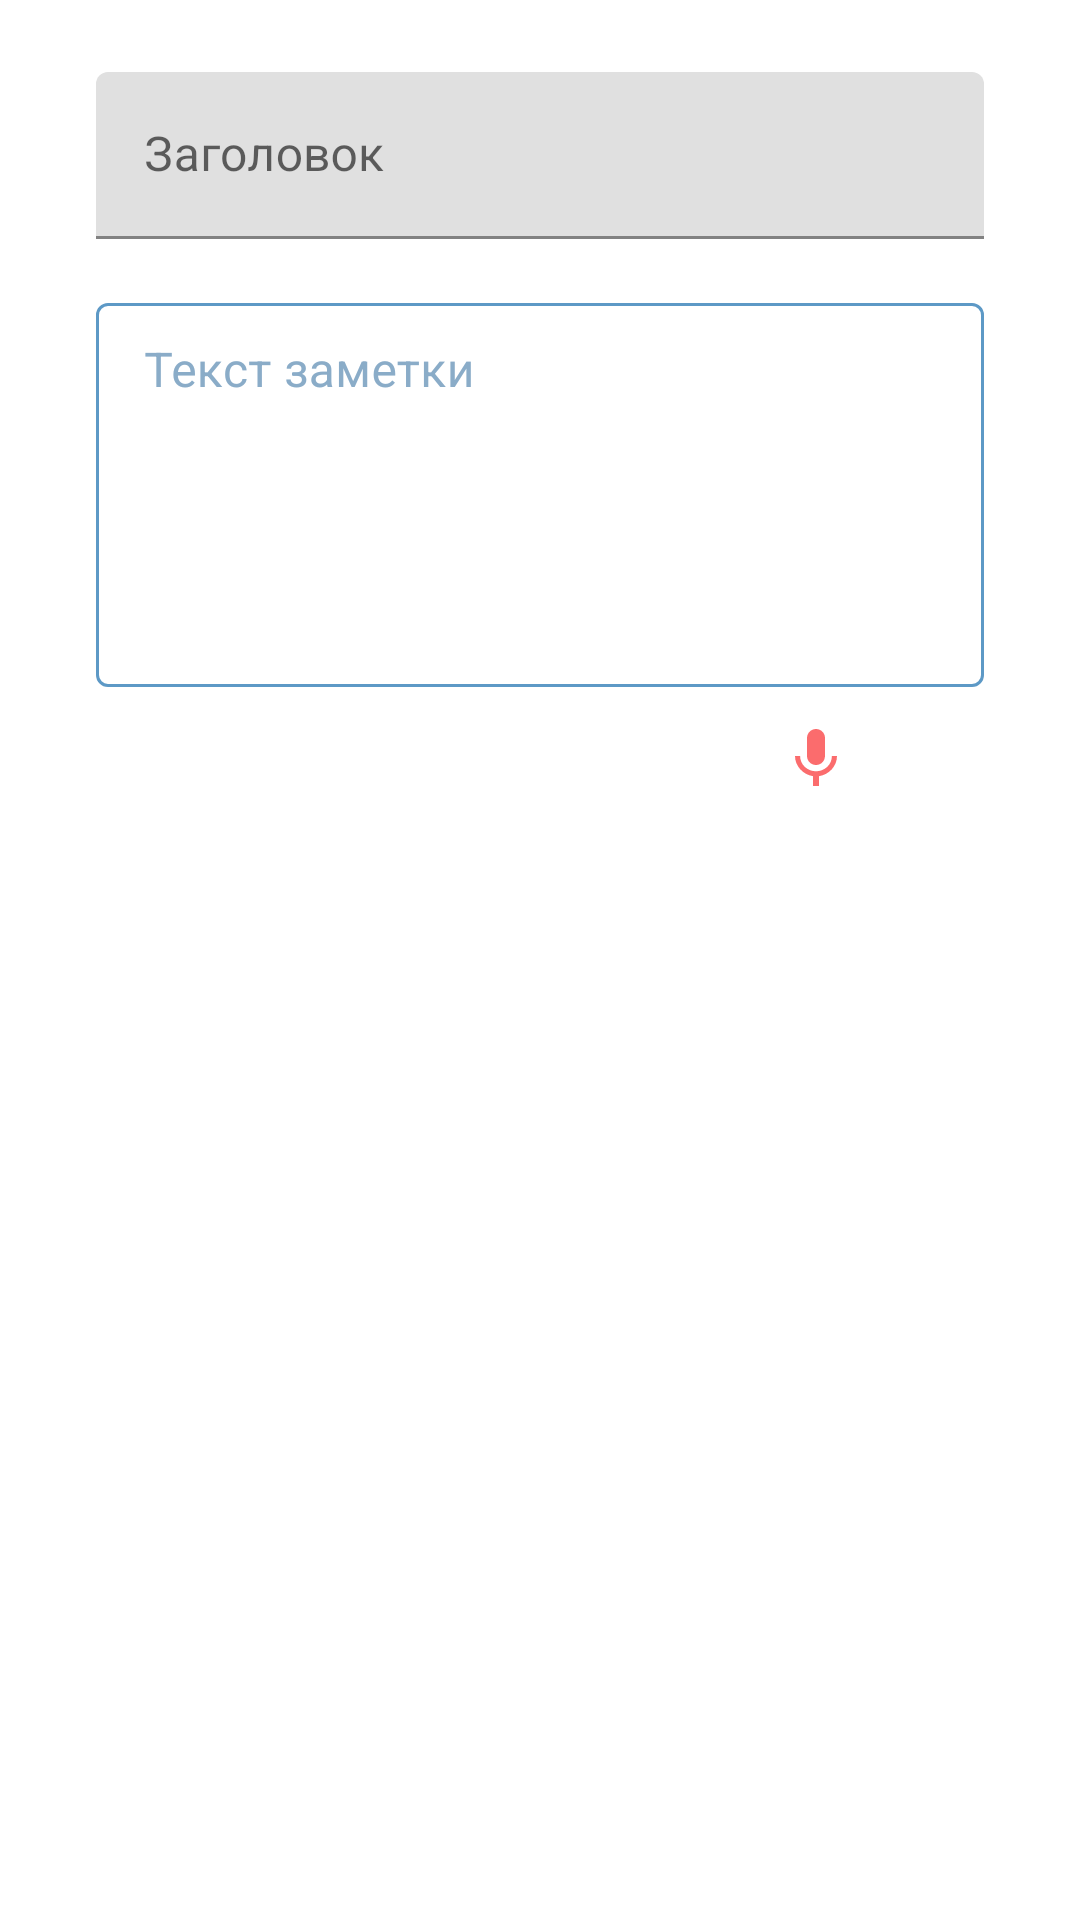

Screen size 1080w x 1920h. Icon name, then its center in pixels as point (x, y):
record voice: point (816, 757)
